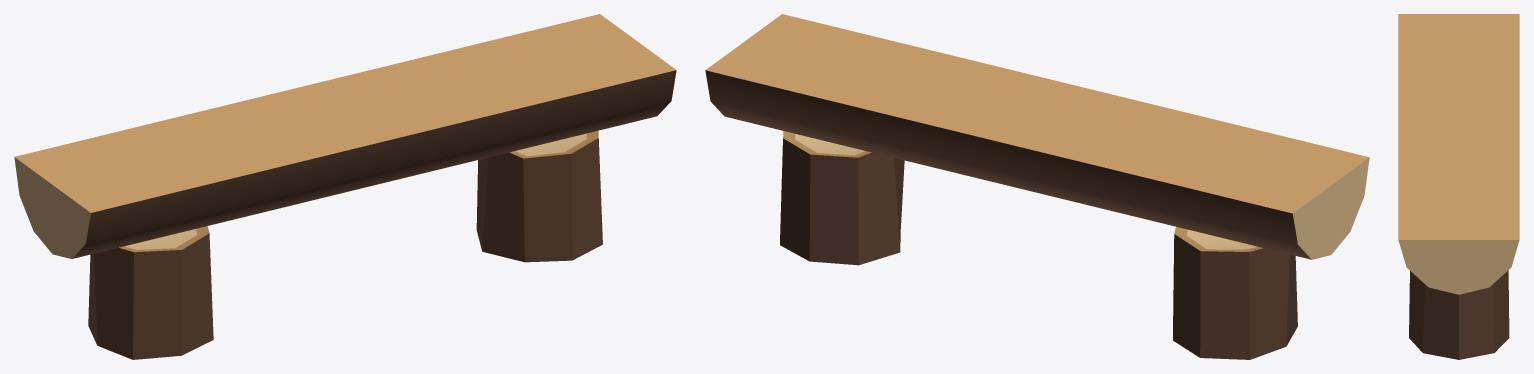
File: SM_Log_Bench.glb
The picture shows the model from 3 angles, left to right: view 1: azimuth 30°, elevation 25°; view 2: azimuth 150°, elevation 25°; view 3: azimuth 270°, elevation 25°; orthographic projection. The views are drawn at different scales.
Parts seen in each view (by area): view 1: SM_Log_Bench; view 2: SM_Log_Bench; view 3: SM_Log_Bench.
Boxes of the visible parts, x1,y1,x2,y2 form: SM_Log_Bench: [14, 14, 676, 359]; SM_Log_Bench: [705, 14, 1369, 359]; SM_Log_Bench: [1398, 14, 1519, 359].
Size of the model in its own units: 1.5 by 0.42 by 0.34.
Materials: 1 (1 with a texture image).
